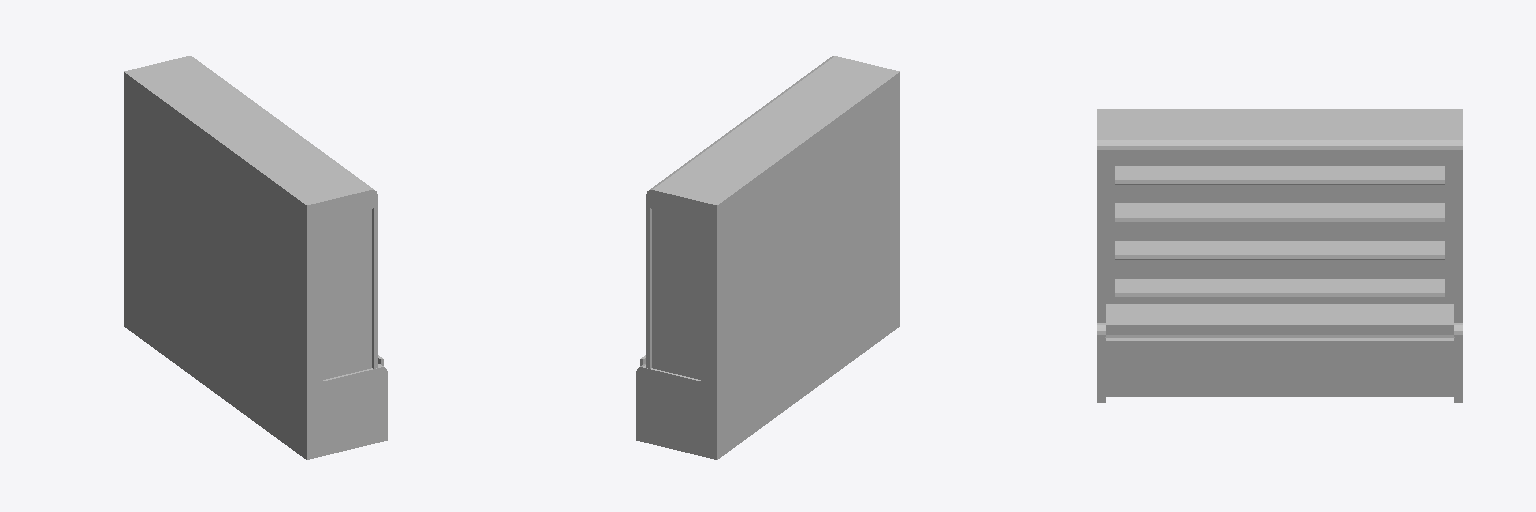
Rendered from OpenFridge.obj.
The picture shows the model from 3 angles: view 1: azimuth 30°, elevation 25°; view 2: azimuth 150°, elevation 25°; view 3: azimuth 270°, elevation 25°; orthographic projection.
Visible parts, largest first — view 1: OpenFridge_Cube.038; view 2: OpenFridge_Cube.038; view 3: OpenFridge_Cube.038.
Part boxes in pixels (x1,y1,x2,y2): OpenFridge_Cube.038: (124, 56, 387, 459); OpenFridge_Cube.038: (636, 56, 899, 459); OpenFridge_Cube.038: (1097, 109, 1462, 402).
Bounding box in the file's own units: 1.45 × 4.33 × 5.64.